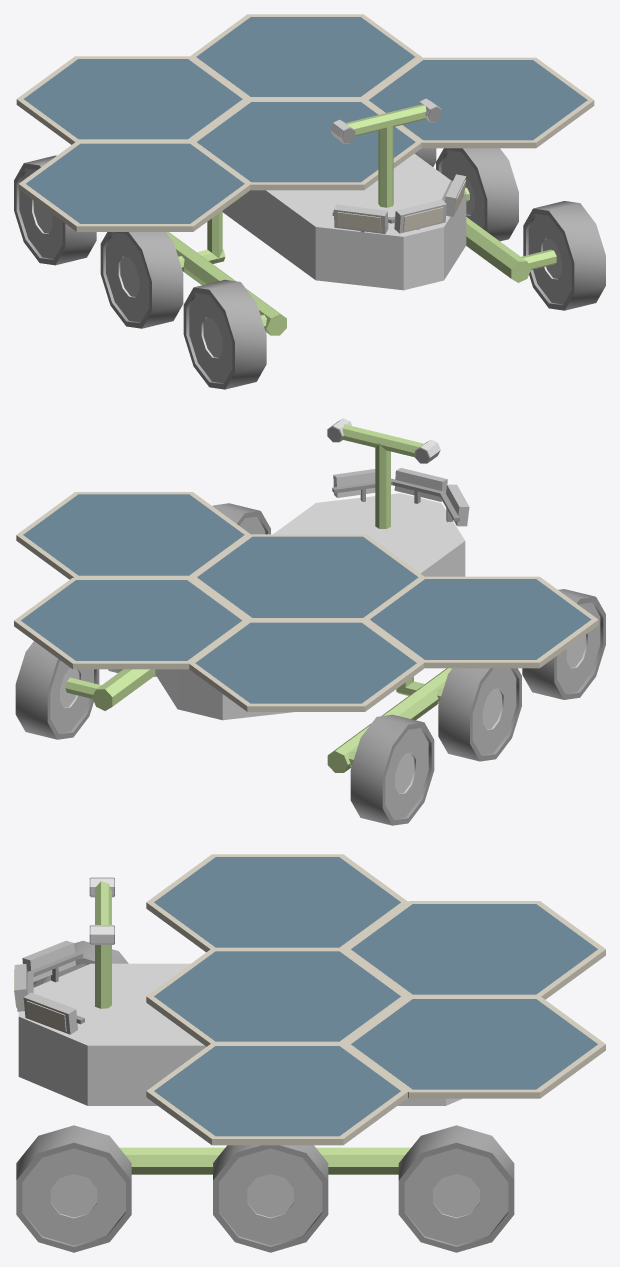
File: moon rover_1.fbx
3 renders of one model, top to bottom at view 1: azimuth 30°, elevation 25°; view 2: azimuth 150°, elevation 25°; view 3: azimuth 270°, elevation 25°, orthographic. The views are drawn at different scales.
Parts seen in each view (by area): view 1: Cube_1, Boole_1, Boole_1_2, Boole, Boole_2_2, Boole_2; view 2: Cube_1, Boole_2, Boole, Boole_2_3, Boole_1, Boole_1_2; view 3: Cube_1, Boole_2_3, Boole_1_2, Boole_2_2, Boole_1.
Boxes of the visible parts, box(x1,y1,x2,y2) form: Cube_1: box(16, 14, 594, 335); Boole_1: box(183, 279, 266, 389); Boole_1_2: box(523, 201, 605, 310); Boole: box(100, 232, 183, 328); Boole_2_2: box(436, 148, 518, 241); Boole_2: box(14, 155, 96, 265); Cube_1: box(14, 418, 598, 772); Boole_2: box(350, 714, 434, 825); Boole: box(438, 668, 521, 761); Boole_2_3: box(15, 641, 99, 739); Boole_1: box(522, 589, 605, 699); Boole_1_2: box(212, 503, 270, 534); Cube_1: box(14, 854, 605, 1174); Boole_2_3: box(398, 1125, 514, 1252); Boole_1_2: box(16, 1125, 131, 1252); Boole_2_2: box(213, 1145, 328, 1252); Boole_1: box(33, 940, 128, 987).
Bounding box in the file's own units: 273 × 112 × 239.
